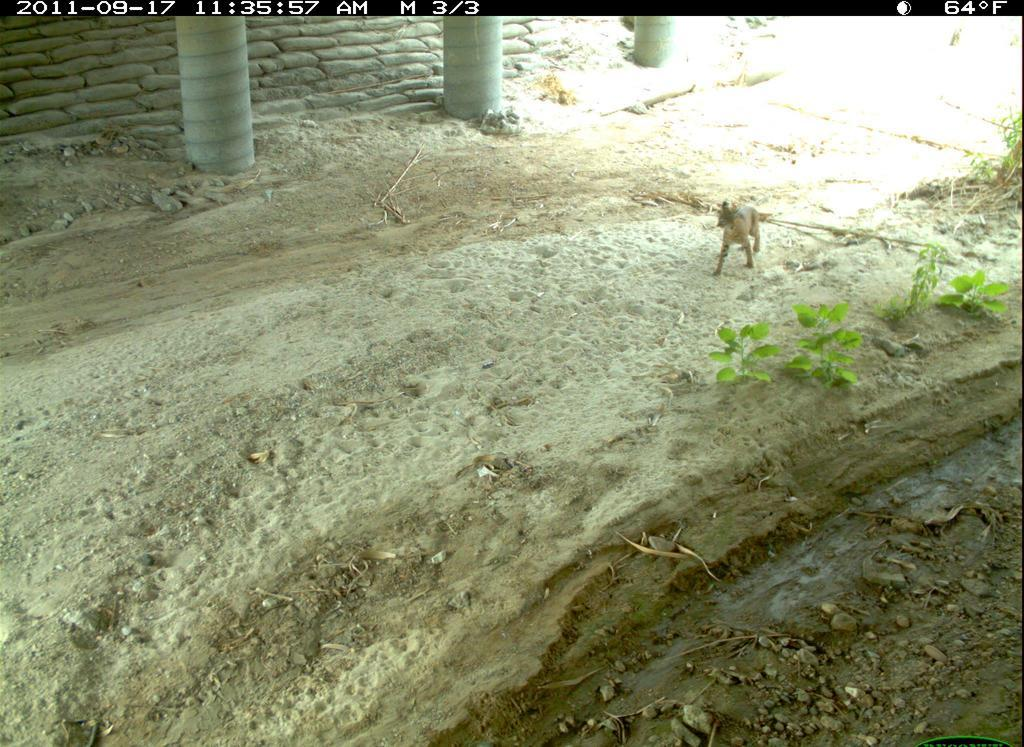bobcat: (701, 198, 772, 285)
